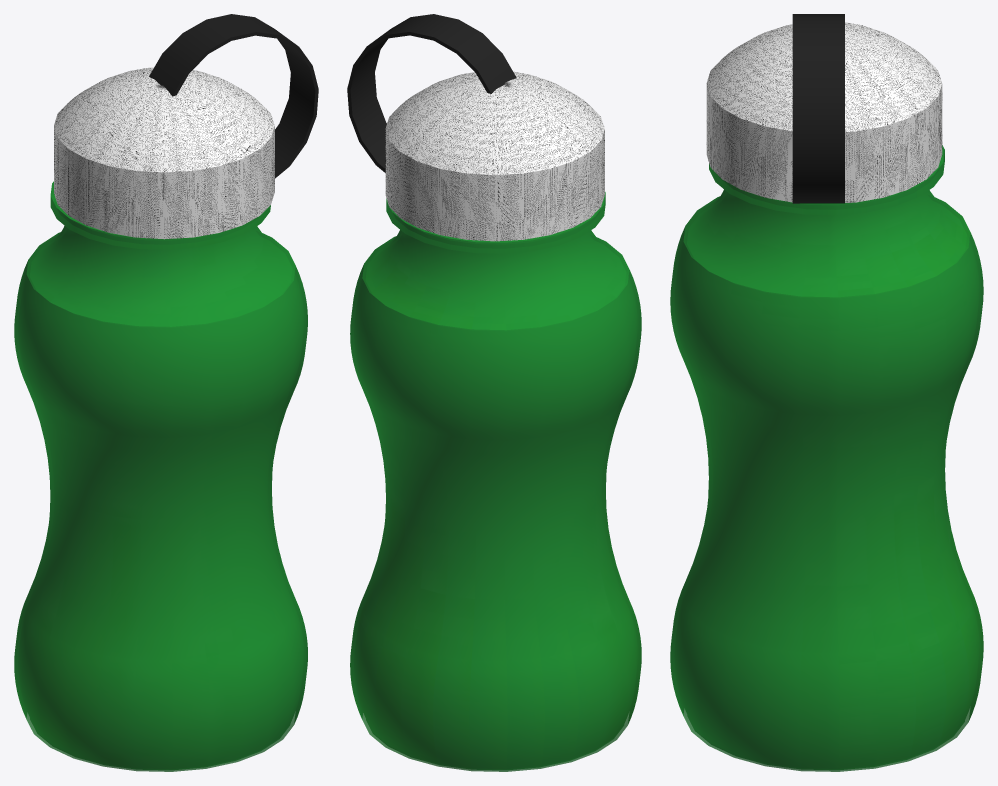
The model's file is Green_Bottle.dae.
3 views of the same model, side by side, from view 1: azimuth 30°, elevation 25°; view 2: azimuth 150°, elevation 25°; view 3: azimuth 270°, elevation 25° (orthographic). The views are drawn at different scales.
Parts seen in each view (by area): view 1: bottle (×4), cap (×3); view 2: bottle (×4), cap (×4); view 3: bottle (×4), cap (×2).
Part boxes in pixels (x1,y1,x2,y2): bottle (×4): [14, 181, 307, 771]; cap (×3): [54, 14, 318, 239]; bottle (×4): [350, 192, 641, 771]; cap (×4): [347, 14, 604, 241]; bottle (×4): [670, 145, 983, 771]; cap (×2): [706, 14, 942, 203].
Bounding box in the file's own units: 3.16 × 2.99 × 7.6.
3 materials, 1 textured.
